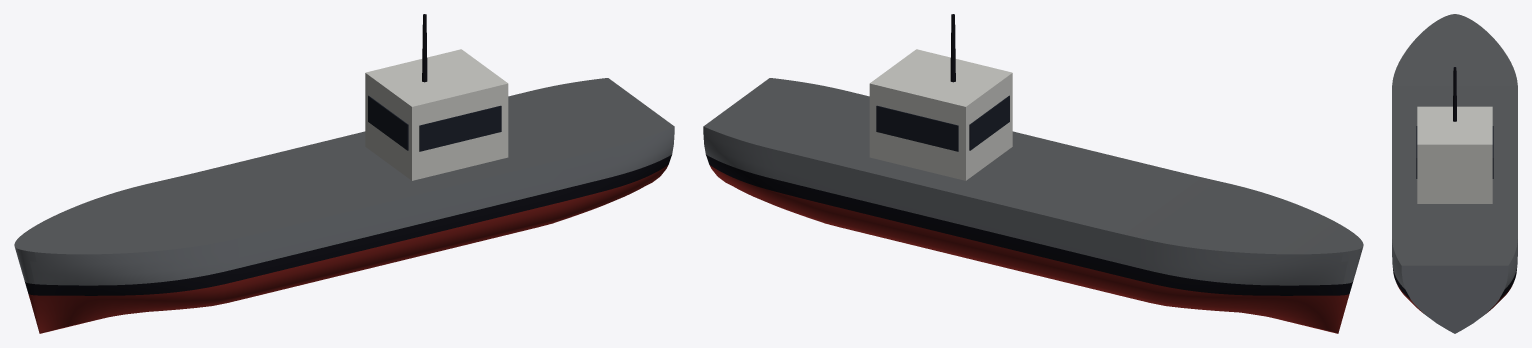
Rendered from generic_vessel.glb.
The picture shows the model from 3 angles, left to right: view 1: azimuth 30°, elevation 25°; view 2: azimuth 150°, elevation 25°; view 3: azimuth 270°, elevation 25°; orthographic projection. The views are drawn at different scales.
Visible parts, largest first — view 1: generic_vessel; view 2: generic_vessel; view 3: generic_vessel.
Part boxes in pixels (<box>): generic_vessel: <box>14,14,674,333</box>; generic_vessel: <box>703,14,1363,333</box>; generic_vessel: <box>1392,14,1517,333</box>.
Bounding box in the file's own units: 41.6 × 14.3 × 9.
